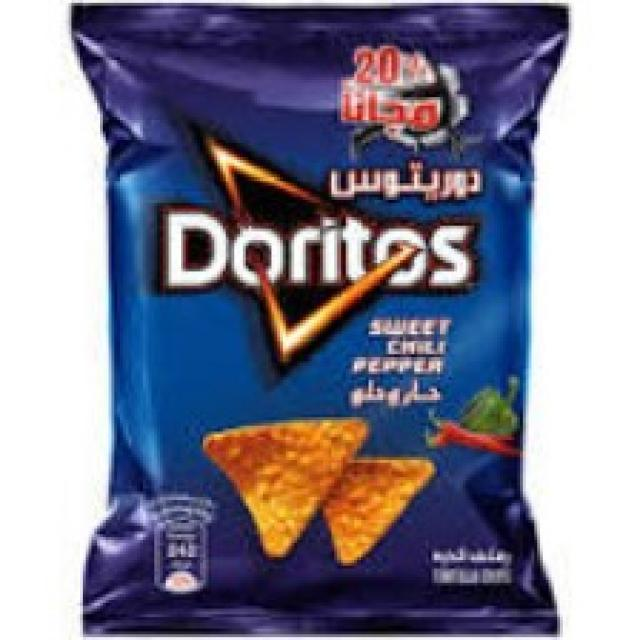plastic: (67, 4, 572, 640)
